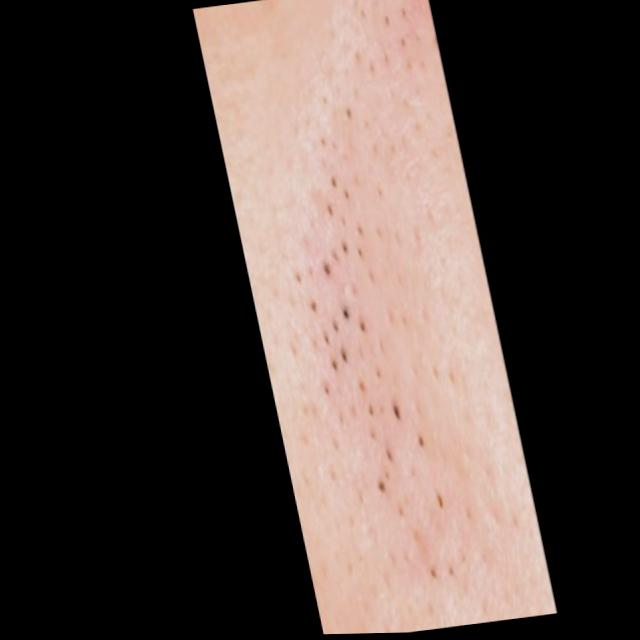blackhead: (276, 66, 457, 613)
